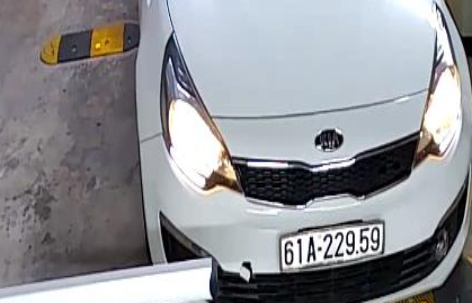plate: (275, 217, 385, 272)
